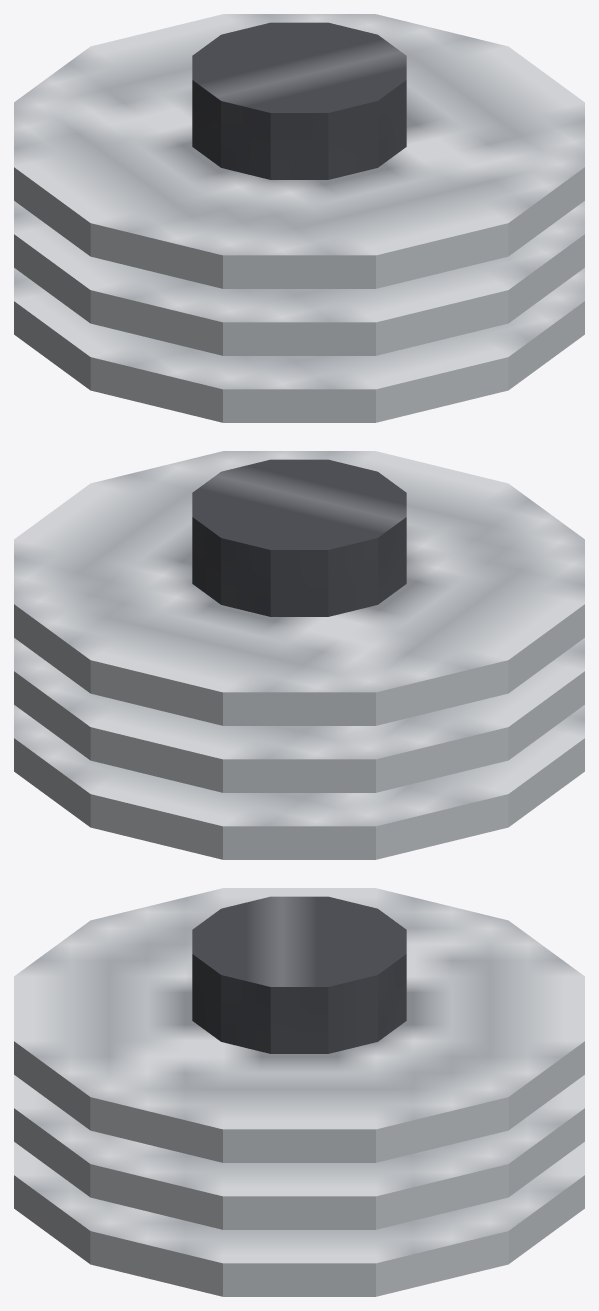
File: era4_disk_mainframe_pack_double_sided.obj
3 views of the same model, one above another, from view 1: azimuth 30°, elevation 25°; view 2: azimuth 150°, elevation 25°; view 3: azimuth 270°, elevation 25° (orthographic).
Visible parts, largest first — view 1: era4_disk_mainframe; view 2: era4_disk_mainframe; view 3: era4_disk_mainframe.
Boxes of the visible parts, x1,y1,x2,y2 form: era4_disk_mainframe: (14, 14, 584, 422); era4_disk_mainframe: (14, 451, 584, 859); era4_disk_mainframe: (14, 888, 584, 1296).
Bounding box in the file's own units: 0.9659 × 0.5375 × 0.9659.
